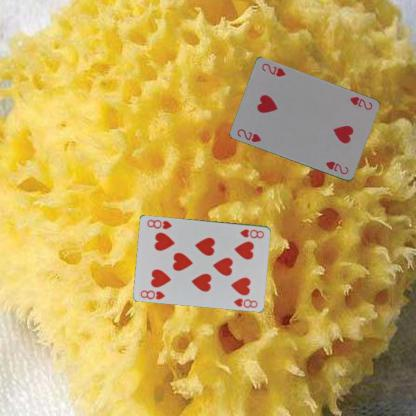2h: (347, 94, 374, 111), (235, 126, 262, 143)
8h: (138, 287, 166, 301), (238, 227, 265, 239)
